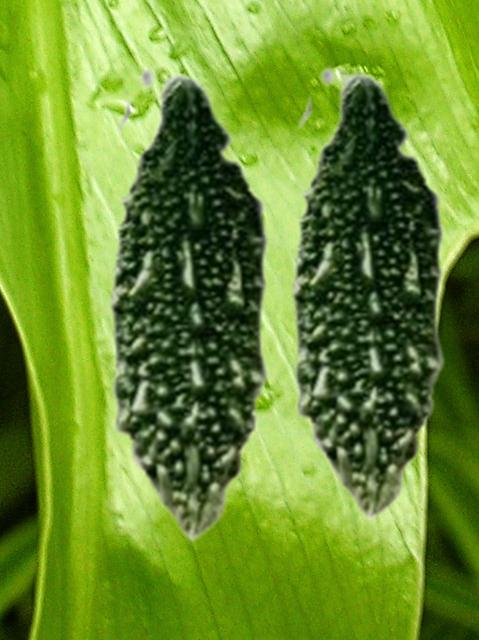ampalaya: (108, 66, 280, 544), (290, 65, 455, 523)
